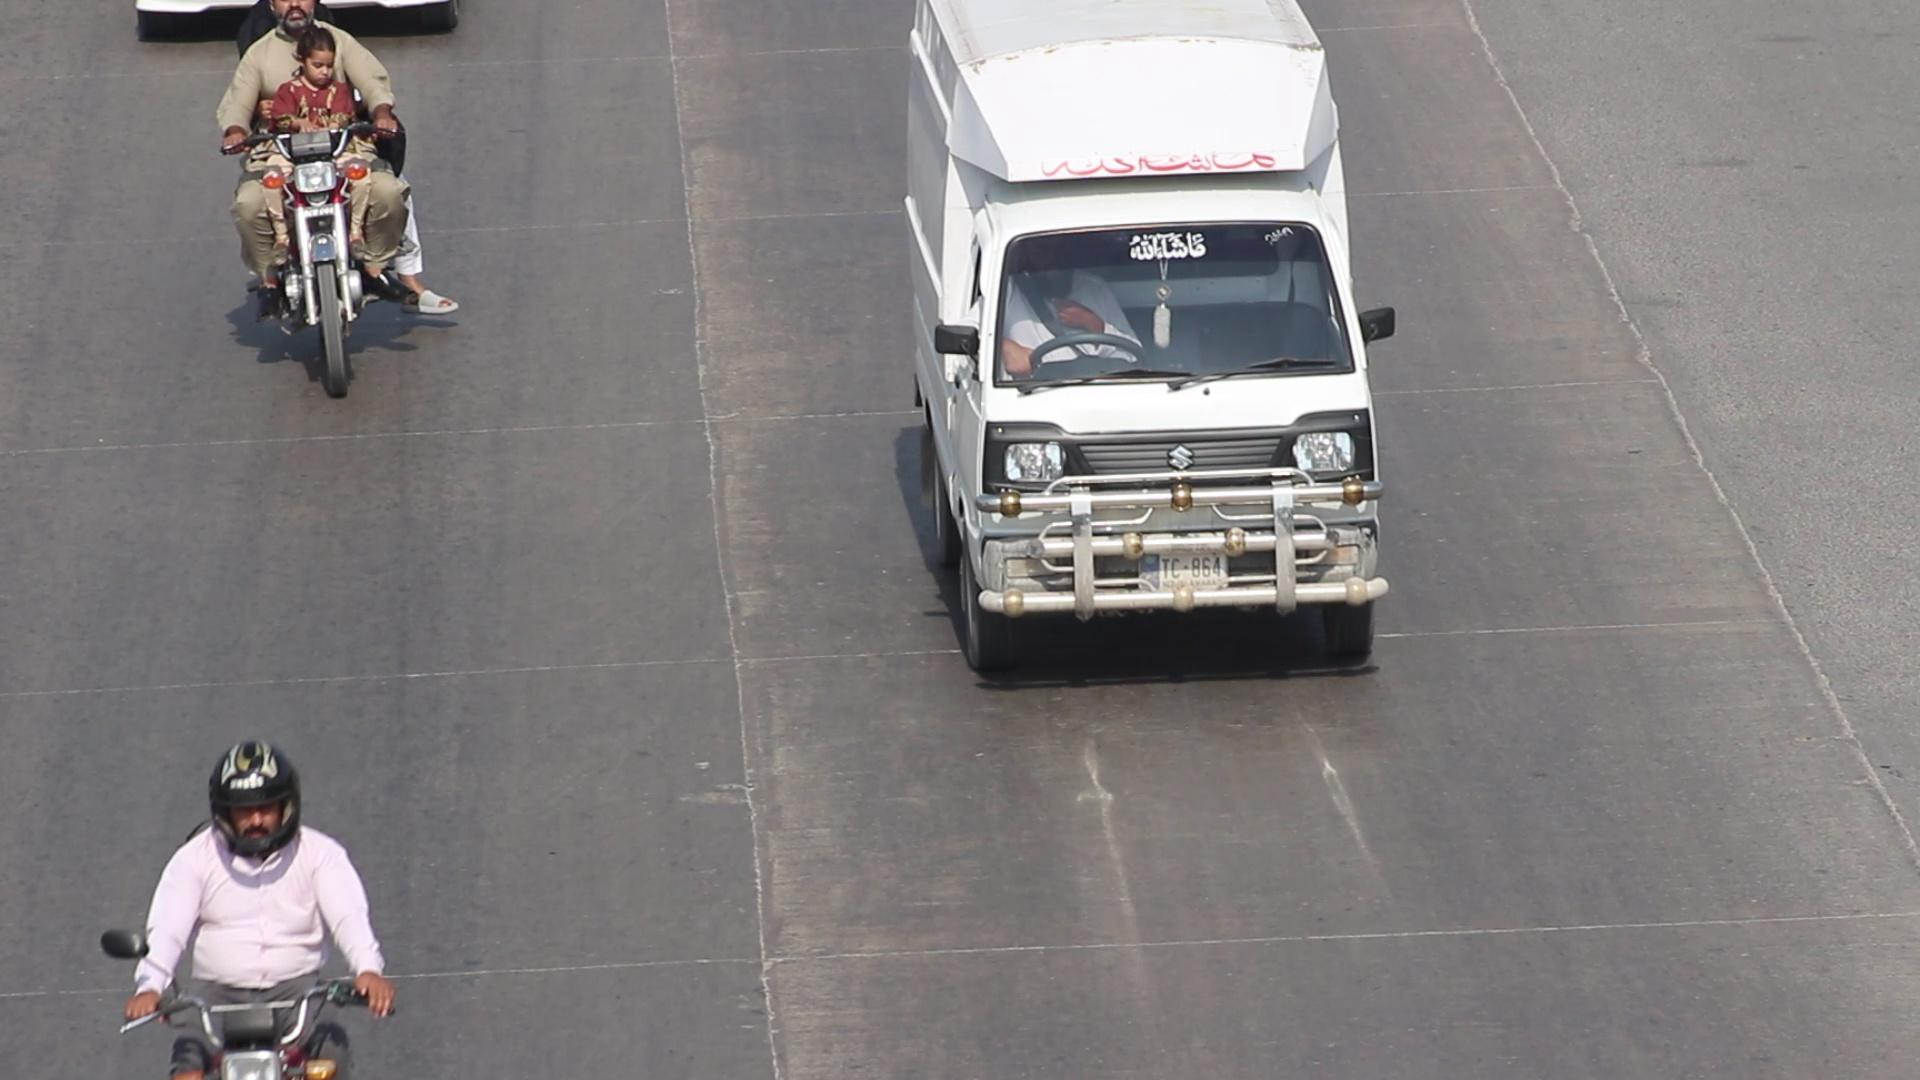windshield: (984, 216, 1367, 417)
